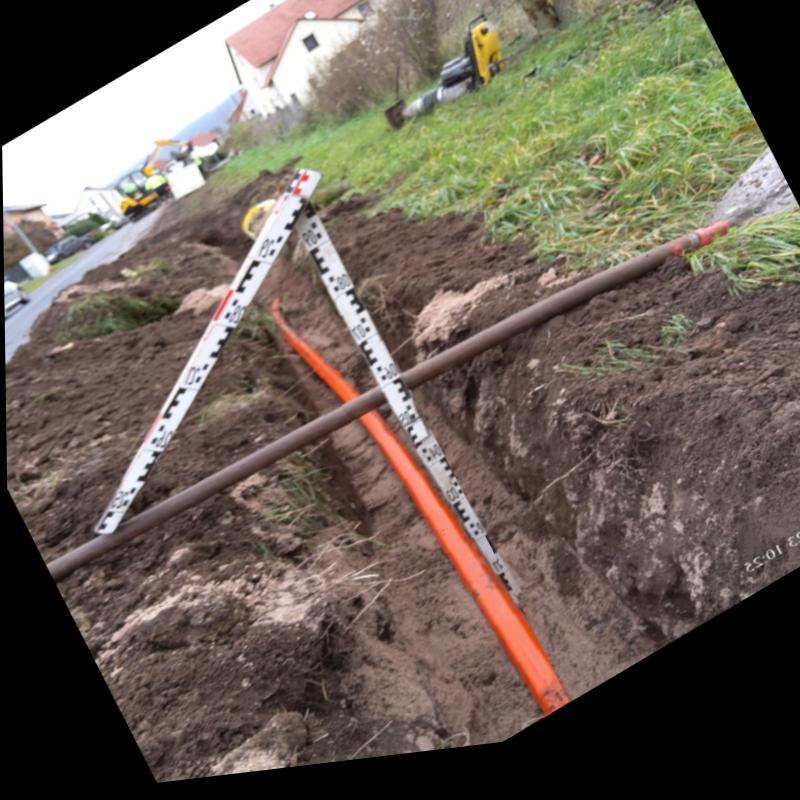Orang-Speednetrohrchen: (276, 329, 567, 729)
